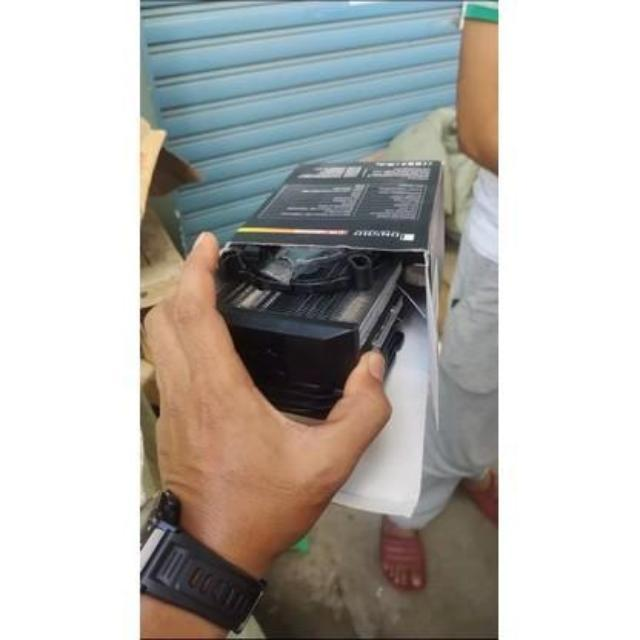CPU_Fan: (210, 242, 416, 418)
